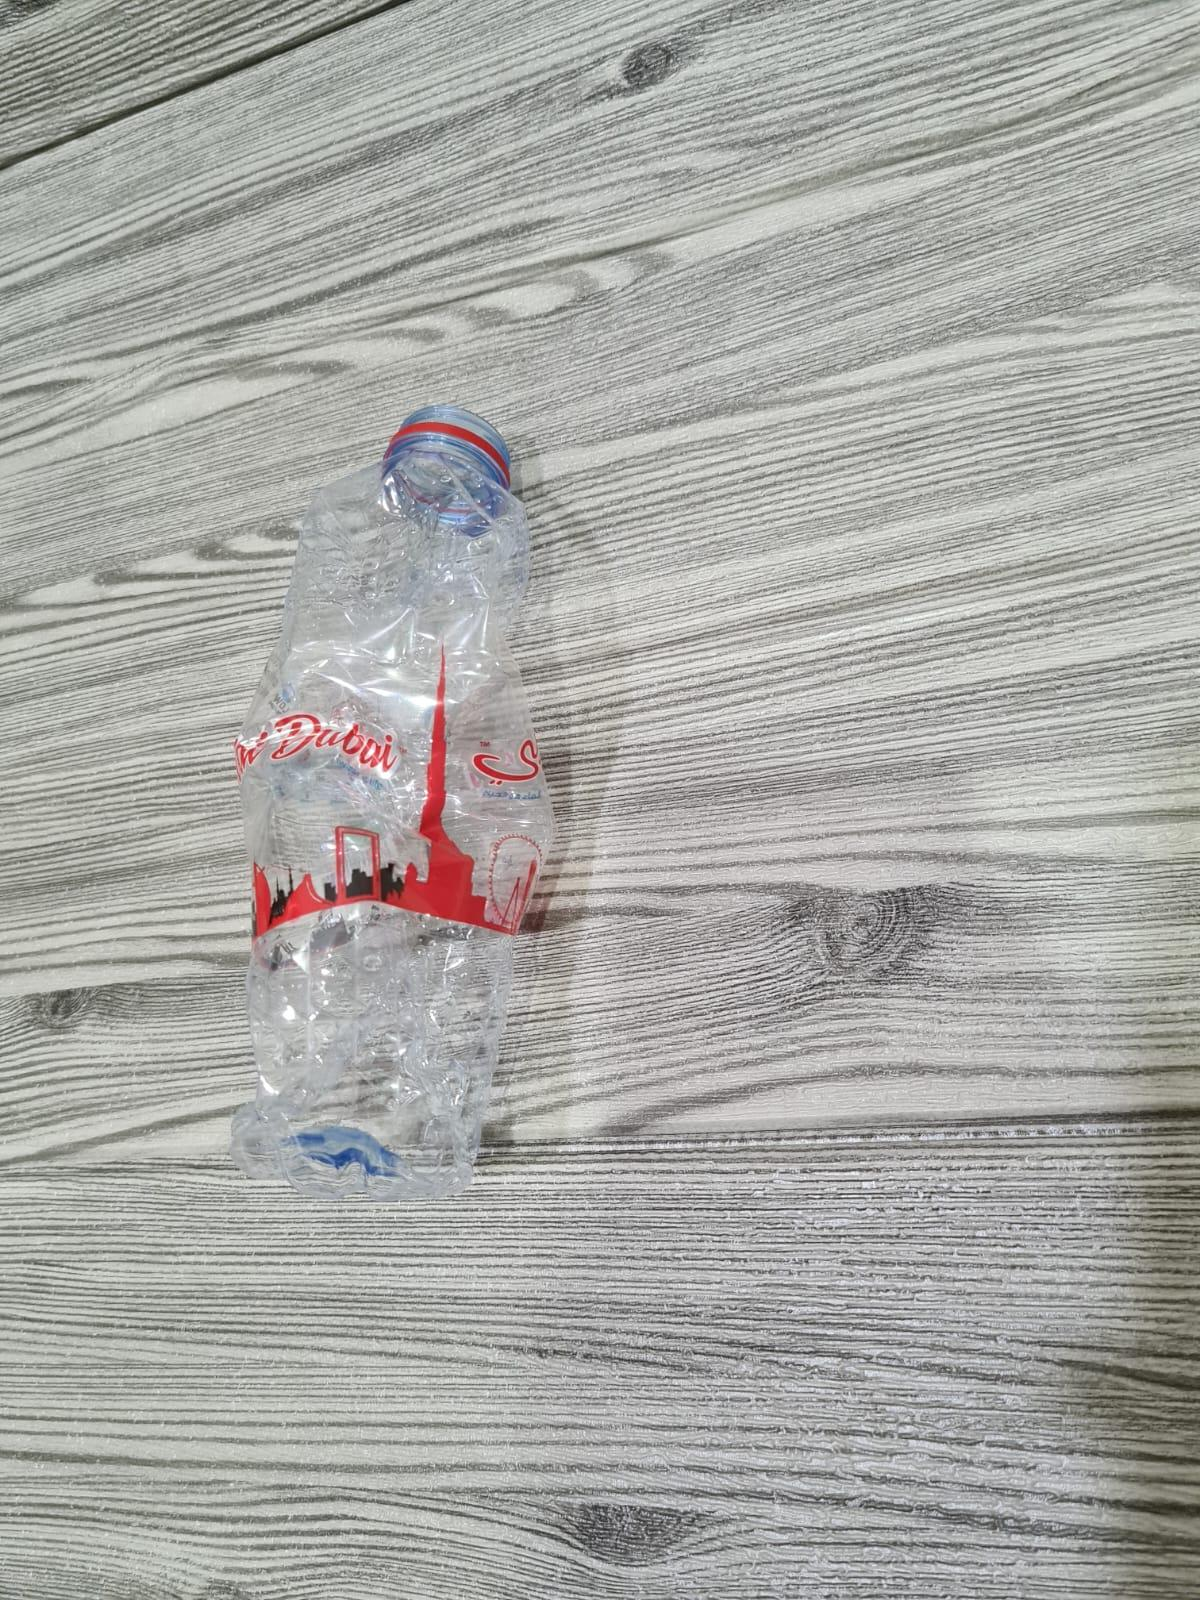bottle: (222, 380, 582, 1180)
